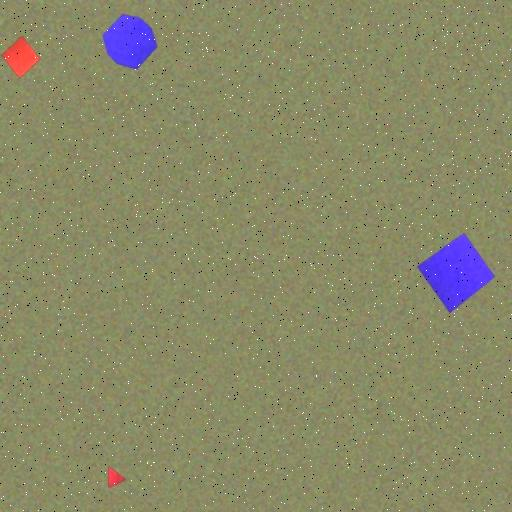BLUE_SQUARE: (416, 233, 495, 314)
RED_SQUARE: (0, 35, 41, 79)
